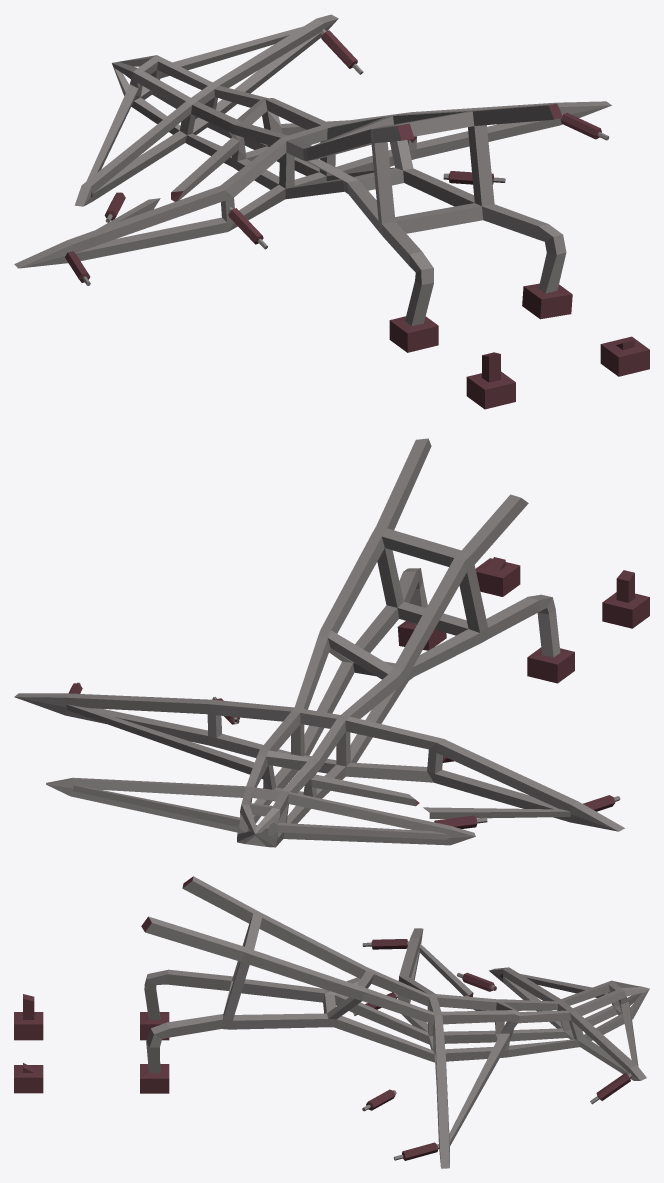
Rendered from power-line-pole-apocalypse-b.fbx.
3 views of the same model, one above another, from view 1: azimuth 30°, elevation 25°; view 2: azimuth 150°, elevation 25°; view 3: azimuth 270°, elevation 25° (orthographic). The views are drawn at different scales.
Parts seen in each view (by area): view 1: power-line-pole-apocalypse-b; view 2: power-line-pole-apocalypse-b; view 3: power-line-pole-apocalypse-b.
Boxes of the visible parts, x1=… form: power-line-pole-apocalypse-b: x1=14, y1=14, x2=649, y2=409; power-line-pole-apocalypse-b: x1=14, y1=438, x2=649, y2=847; power-line-pole-apocalypse-b: x1=14, y1=876, x2=649, y2=1168.
Size of the model in its own units: 13.68 by 4.48 by 15.16.
